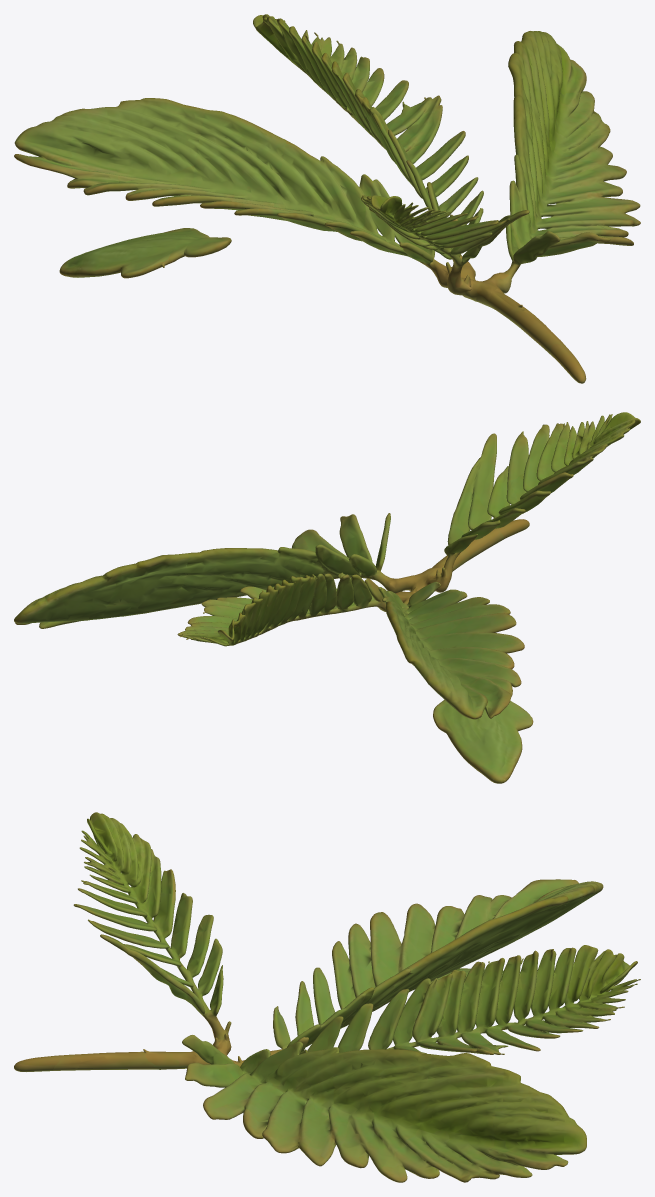
File: sz-mimosa.glb
The picture shows the model from 3 angles, top to bottom: view 1: azimuth 30°, elevation 25°; view 2: azimuth 150°, elevation 25°; view 3: azimuth 270°, elevation 25°; orthographic projection. The views are drawn at different scales.
Parts seen in each view (by area): view 1: tripo_node_64330d4e-f789-49c2-981f-99f08bf8f004; view 2: tripo_node_64330d4e-f789-49c2-981f-99f08bf8f004; view 3: tripo_node_64330d4e-f789-49c2-981f-99f08bf8f004.
Boxes of the visible parts, x1,y1,x2,y2 form: tripo_node_64330d4e-f789-49c2-981f-99f08bf8f004: (14, 14, 640, 383); tripo_node_64330d4e-f789-49c2-981f-99f08bf8f004: (14, 412, 640, 783); tripo_node_64330d4e-f789-49c2-981f-99f08bf8f004: (14, 812, 640, 1182).
Bounding box in the file's own units: 0.9502 × 0.3718 × 0.9999.
Materials: 1 (1 with a texture image).
